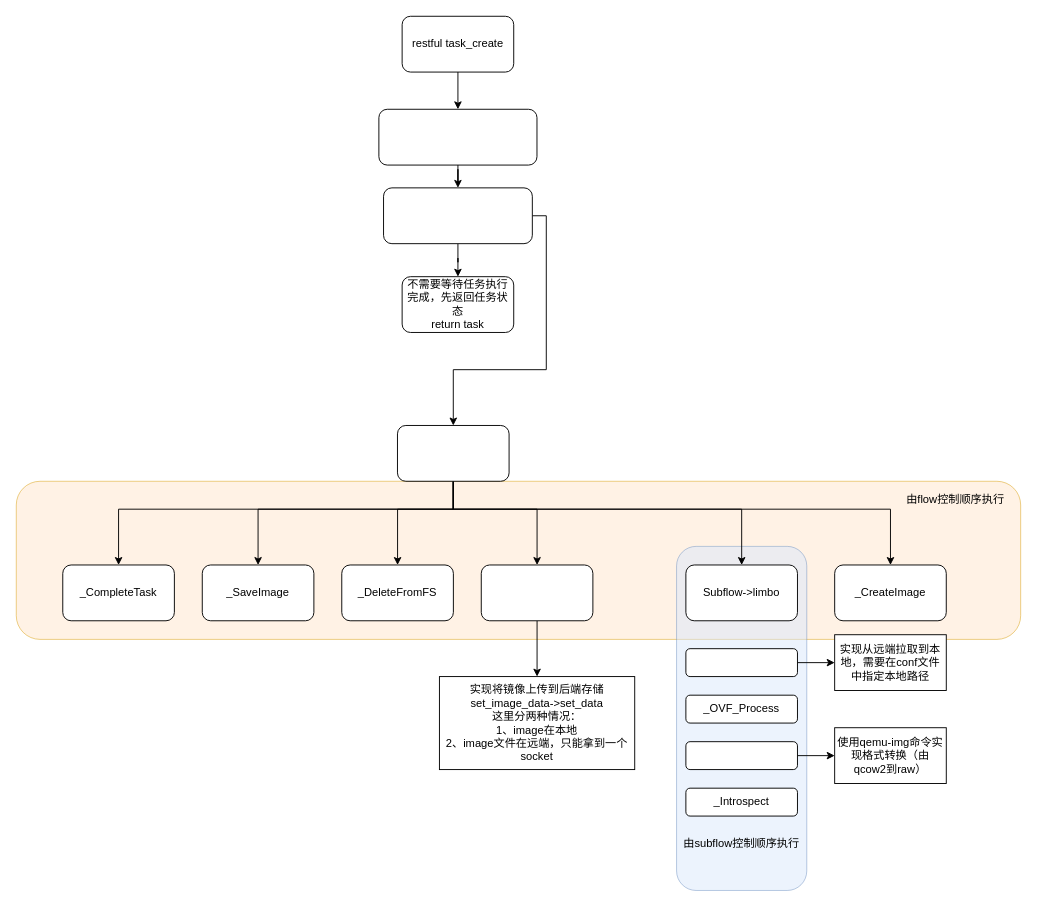
Image size: 1037x907. Some labels were removed from this diagram. Here are the shapes that lost their labels. From the top down, the centre of each, then its label:
At (457,136): "启动一个协程，在协程中执行 pool.spawn_n(new_task.run, task_executor)".
At (457,215): "task_executor taskflow_executor.TaskExecutor".
At (453,453): "taskflow的形式线性执行下列任务：".
At (536,592): "_ImportToStore".
At (741,662): "_ImportToFS".
At (741,755): "_Convert".
